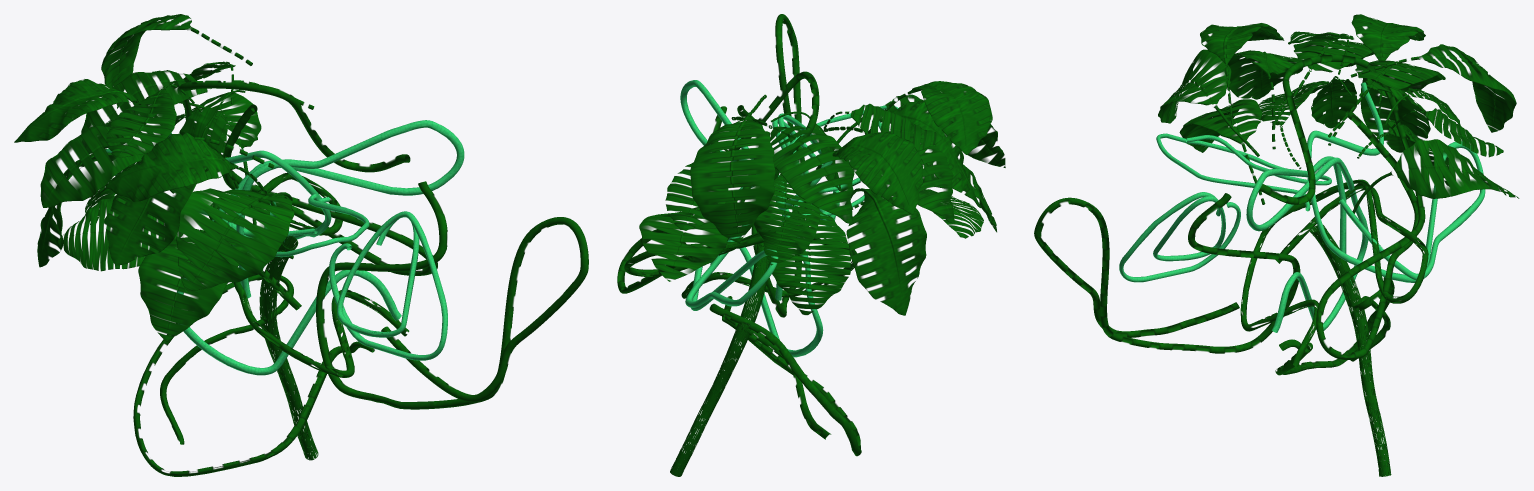
Rendered from dmredwoodplant2.glb.
The picture shows the model from 3 angles, left to right: view 1: azimuth 30°, elevation 25°; view 2: azimuth 150°, elevation 25°; view 3: azimuth 270°, elevation 25°; orthographic projection. The views are drawn at different scales.
Visible parts, largest first — view 1: leaf_003_mesh.006, jump_rope_246.040, jump_rope_246.036, leaf_004_mesh.005, leaf_009_mesh.005, jump_rope_246.042, leaf_005_mesh.006, jump_rope_246.019, leaf_010_mesh.005, jump_rope_246.039, jump_rope_246.022, leaf_009_mesh.006 (+10 smaller); view 2: leaf_004_mesh.006, leaf_010_mesh.006, leaf_005_mesh.005, leaf_001_mesh.006, leaf_009_mesh.006, leaf_003_mesh.007, leaf_009_mesh.005, jump_rope_246.019, human_liver_1128_aorta.004, leaf_002_mesh.006, jump_rope_246.042, jump_rope_246.040 (+12 smaller); view 3: jump_rope_246.040, jump_rope_246.042, jump_rope_246.022, leaf_003_mesh.007, jump_rope_246.035, jump_rope_246.036, human_liver_1128_aorta.004, leaf_004_mesh.006, jump_rope_246.039, leaf_003_mesh.006, leaf_010_mesh.005, leaf_004_mesh.005 (+13 smaller).
Part boxes in pixels (x1=…): leaf_003_mesh.006: x1=176, y1=188, x2=294, y2=292; jump_rope_246.040: x1=316, y1=181, x2=588, y2=409; jump_rope_246.036: x1=176, y1=120, x2=464, y2=375; leaf_004_mesh.005: x1=138, y1=232, x2=293, y2=342; leaf_009_mesh.005: x1=105, y1=132, x2=275, y2=205; jump_rope_246.042: x1=177, y1=80, x2=437, y2=275; leaf_005_mesh.006: x1=40, y1=125, x2=274, y2=207; jump_rope_246.019: x1=133, y1=274, x2=374, y2=476; leaf_010_mesh.005: x1=104, y1=167, x2=238, y2=265; jump_rope_246.039: x1=329, y1=211, x2=447, y2=360; jump_rope_246.022: x1=208, y1=172, x2=409, y2=377; leaf_009_mesh.006: x1=14, y1=79, x2=161, y2=142; leaf_004_mesh.006: x1=690, y1=94, x2=775, y2=243; leaf_010_mesh.006: x1=845, y1=188, x2=926, y2=315; leaf_005_mesh.005: x1=731, y1=116, x2=854, y2=223; leaf_001_mesh.006: x1=768, y1=190, x2=850, y2=315; leaf_009_mesh.006: x1=808, y1=132, x2=923, y2=214; leaf_003_mesh.007: x1=639, y1=200, x2=757, y2=281; leaf_009_mesh.005: x1=869, y1=81, x2=992, y2=154; jump_rope_246.019: x1=709, y1=296, x2=861, y2=456; human_liver_1128_aorta.004: x1=670, y1=229, x2=769, y2=476; leaf_002_mesh.006: x1=754, y1=167, x2=820, y2=265; jump_rope_246.042: x1=617, y1=71, x2=819, y2=293; jump_rope_246.040: x1=737, y1=14, x2=811, y2=317; jump_rope_246.040: x1=1034, y1=193, x2=1300, y2=353; jump_rope_246.042: x1=1259, y1=54, x2=1425, y2=359; jump_rope_246.022: x1=1240, y1=179, x2=1428, y2=366; leaf_003_mesh.007: x1=1352, y1=139, x2=1519, y2=213; jump_rope_246.035: x1=1307, y1=82, x2=1485, y2=282; jump_rope_246.036: x1=1246, y1=156, x2=1368, y2=332; human_liver_1128_aorta.004: x1=1310, y1=225, x2=1391, y2=476; leaf_004_mesh.006: x1=1350, y1=44, x2=1516, y2=132; jump_rope_246.039: x1=1119, y1=192, x2=1240, y2=282; leaf_003_mesh.006: x1=1158, y1=49, x2=1259, y2=156; leaf_010_mesh.005: x1=1225, y1=50, x2=1302, y2=149; leaf_004_mesh.005: x1=1179, y1=99, x2=1265, y2=204.
Bounding box in the file's own units: 1.05 × 1.16 × 1.34.
Materials: 2 (2 with a texture image).
